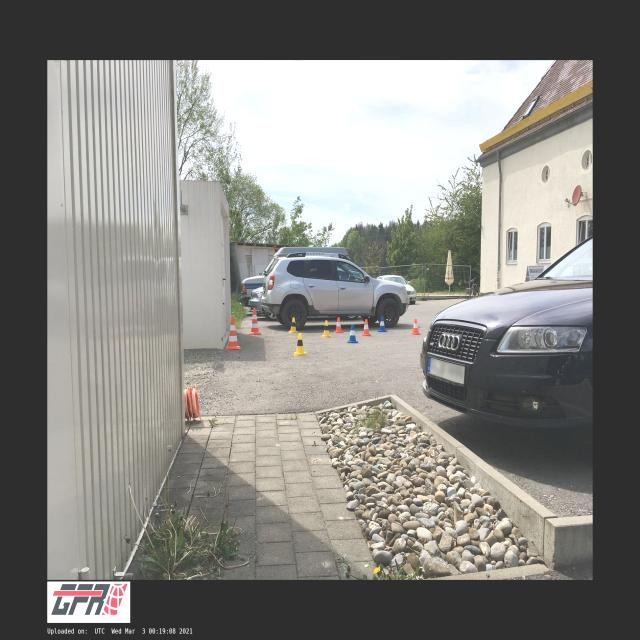blue_cone: (346, 324, 358, 343), (378, 316, 388, 332)
large_orange_cone: (225, 316, 241, 349), (248, 308, 261, 334)
orange_cone: (360, 319, 372, 336), (411, 318, 421, 335), (334, 317, 344, 333)
yellow_cone: (293, 333, 307, 355), (321, 320, 332, 338), (288, 317, 298, 333)
